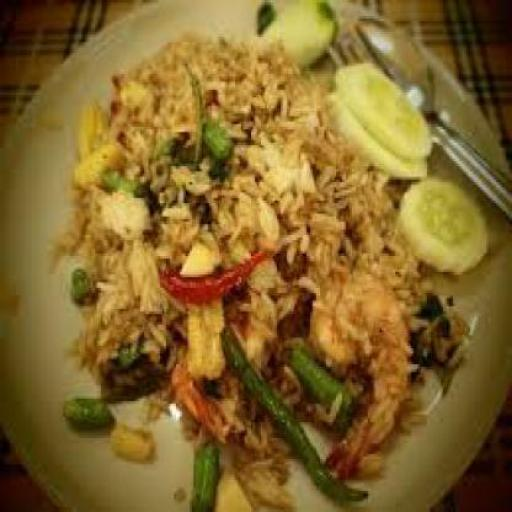biodegradable: (46, 26, 398, 401), (186, 293, 469, 509), (223, 322, 370, 504), (322, 90, 425, 184), (334, 64, 432, 154), (398, 177, 488, 272), (160, 243, 265, 299), (286, 340, 350, 428), (257, 0, 336, 71), (182, 290, 220, 372), (190, 433, 217, 510), (216, 464, 258, 510), (109, 417, 156, 457), (63, 396, 111, 430), (198, 116, 229, 163), (36, 103, 65, 135), (69, 266, 89, 301), (255, 0, 277, 25)
metal: (338, 13, 510, 220)
